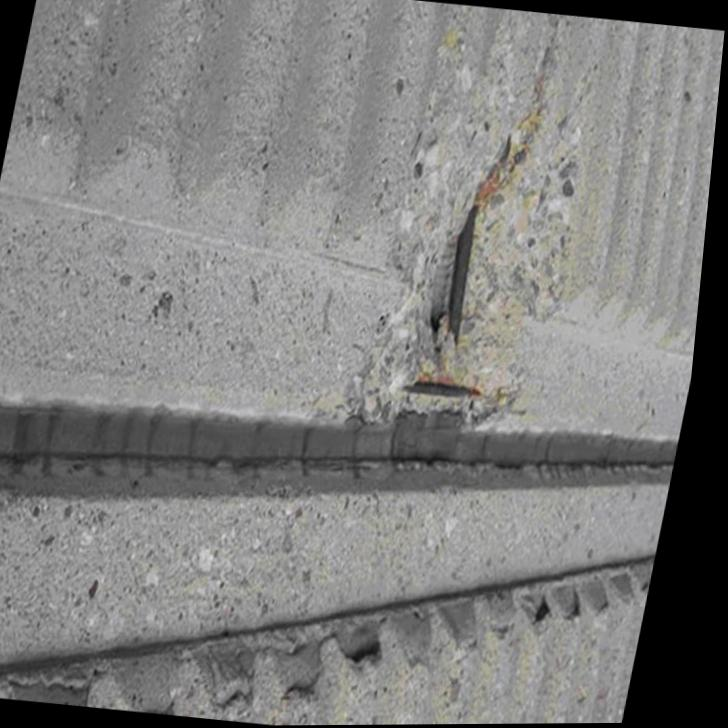damage: (349, 121, 588, 436)
